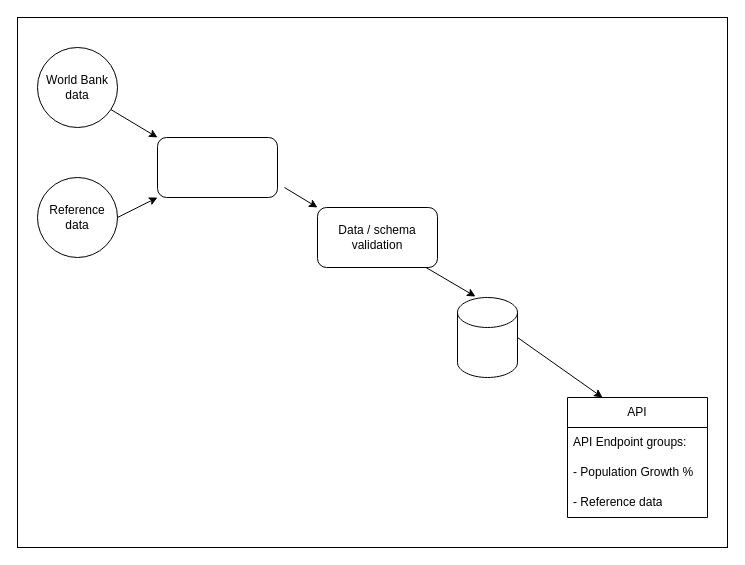
The diagram is 745 pixels wide and 565 high, and some of its shapes have lost their labels. The shapes that lost their labels are listed below. From the top down, each one's centre as x and y in pixels, then its label:
At point 217,167: "Data cleansing".
At point 487,337: "Relational database".
